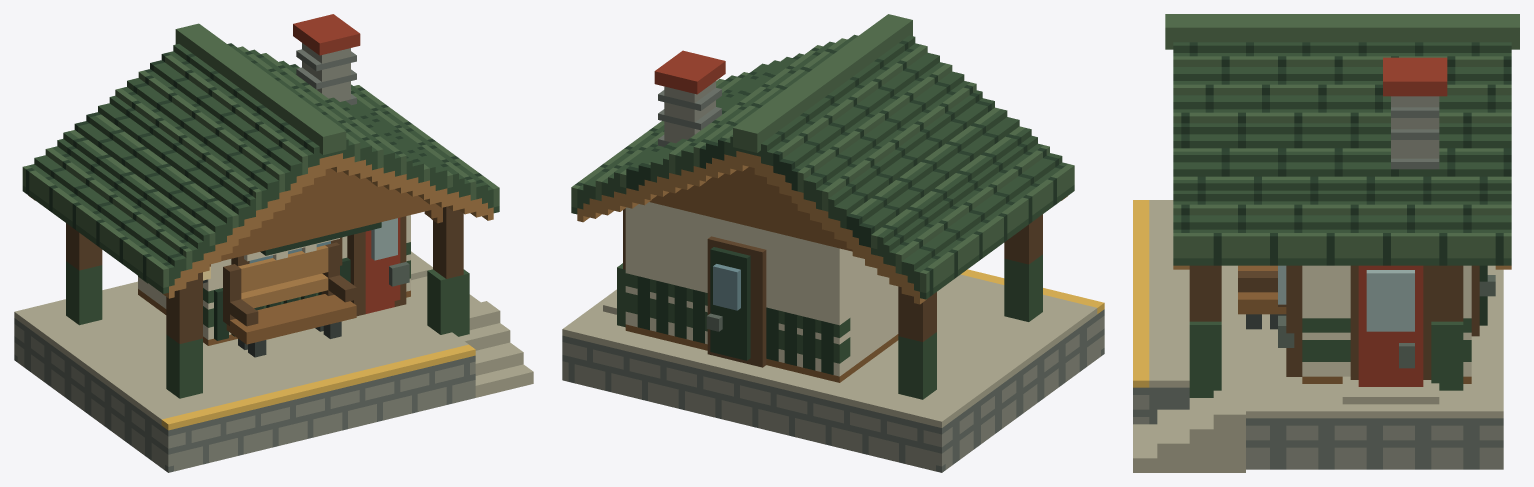
File: station.fbx
3 views of the same model, side by side, from view 1: azimuth 30°, elevation 25°; view 2: azimuth 150°, elevation 25°; view 3: azimuth 270°, elevation 25° (orthographic). The views are drawn at different scales.
Parts seen in each view (by area): view 1: station; view 2: station; view 3: station.
Boxes of the visible parts, bbox=[...] form: station: bbox=[14, 14, 533, 472]; station: bbox=[562, 14, 1104, 472]; station: bbox=[1133, 14, 1519, 472].
Bounding box in the file's own units: 945 × 720 × 720.
